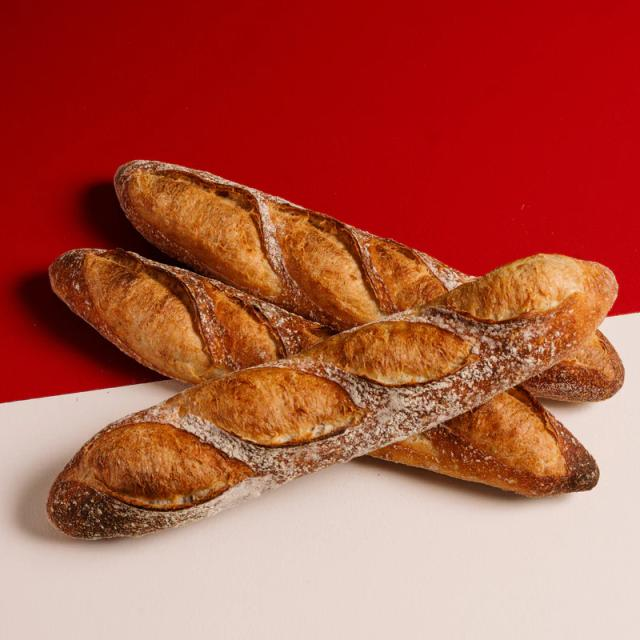Baguette: (48, 254, 616, 538), (114, 160, 472, 330), (50, 250, 330, 384), (371, 386, 598, 496), (526, 330, 623, 401)
